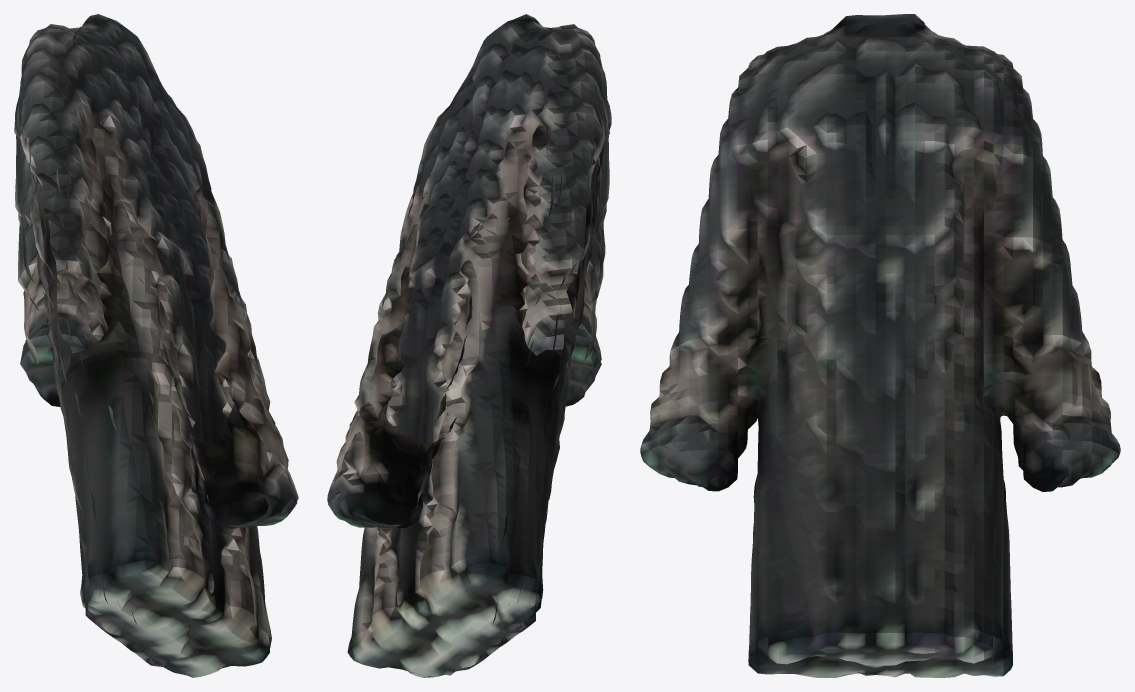
Rendered from qATxMkX6SIEBaa1jlBDu-draft.glb.
3 renders of one model, left to right at view 1: azimuth 30°, elevation 25°; view 2: azimuth 150°, elevation 25°; view 3: azimuth 270°, elevation 25°, orthographic.
Parts seen in each view (by area): view 1: world; view 2: world; view 3: world.
Boxes of the visible parts, box(x1,y1,x2,y2) form: world: box(14, 14, 298, 677); world: box(327, 14, 611, 677); world: box(640, 14, 1120, 677).
Bounding box in the file's own units: 0.2721 × 0.9686 × 0.6692.
